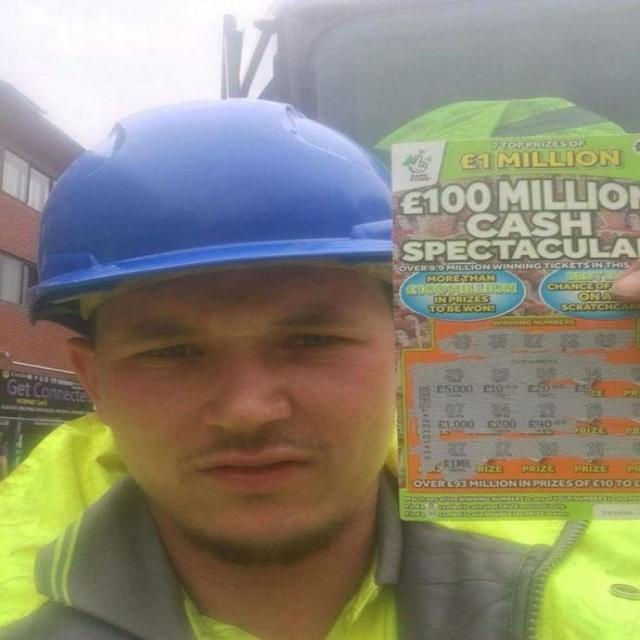hat: (21, 99, 417, 315)
